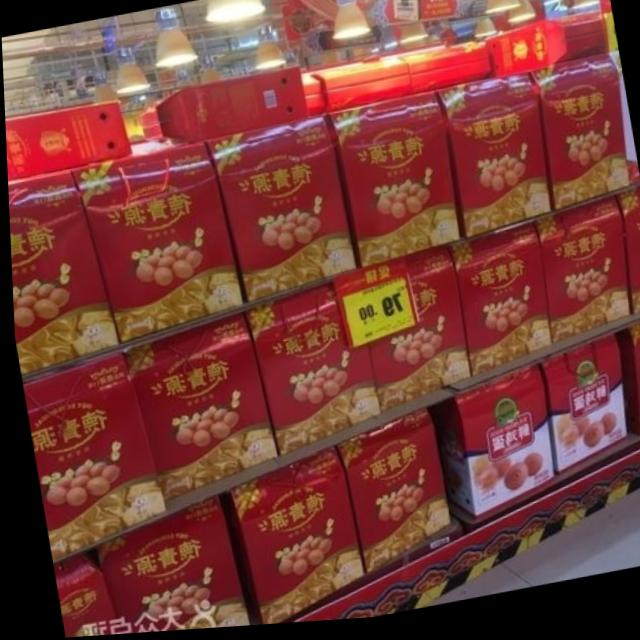box: (68, 146, 242, 344), (20, 347, 165, 559), (118, 311, 272, 502), (202, 118, 356, 307), (218, 449, 359, 628), (239, 280, 377, 459), (324, 96, 460, 270), (6, 167, 116, 374), (92, 497, 243, 635), (432, 78, 551, 244), (423, 370, 551, 521), (331, 413, 445, 578), (364, 251, 467, 416), (444, 226, 548, 383), (528, 60, 630, 219), (528, 199, 629, 350), (534, 342, 623, 482), (153, 69, 309, 146), (4, 101, 132, 176), (485, 18, 606, 86), (47, 548, 117, 638), (308, 62, 410, 117), (396, 49, 489, 100), (605, 327, 640, 445), (610, 190, 640, 322)
